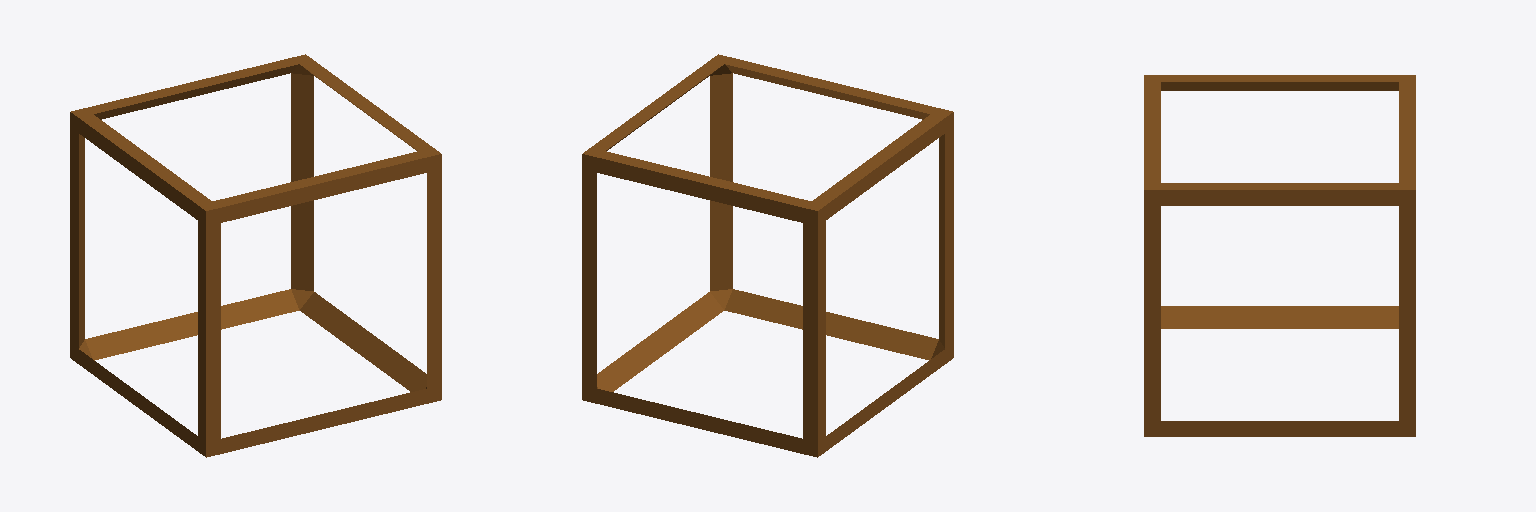
The picture shows the model from 3 angles: view 1: azimuth 30°, elevation 25°; view 2: azimuth 150°, elevation 25°; view 3: azimuth 270°, elevation 25°; orthographic projection.
Parts seen in each view (by area): view 1: Cube; view 2: Cube; view 3: Cube.
Boxes of the visible parts, box(x1,y1,x2,y2) form: Cube: box(70, 54, 441, 457); Cube: box(582, 54, 953, 457); Cube: box(1144, 75, 1415, 436).
Bounding box in the file's own units: 2 × 2 × 2.
1 materials, 1 textured.